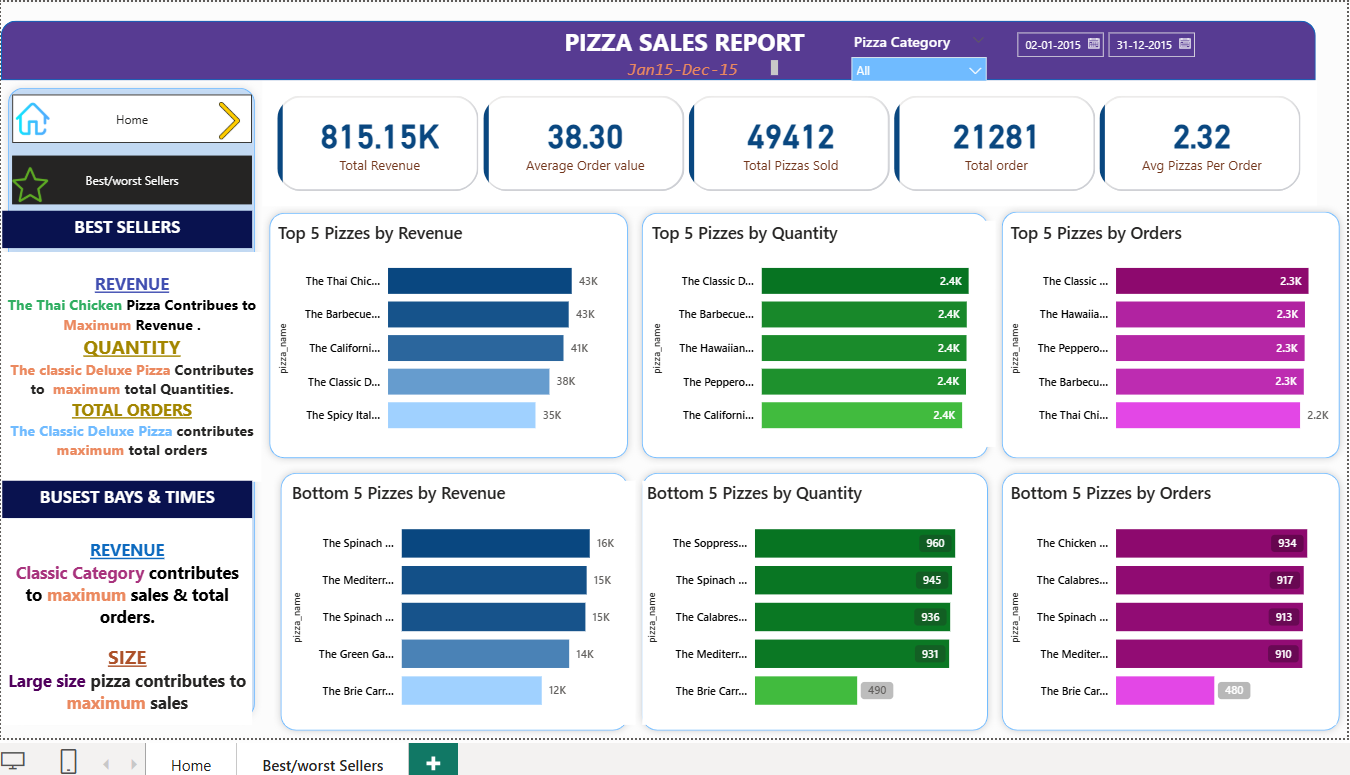

The page's visual inventory and layout, read from the dashboard file:
{"tool":"powerbi","page":{"name":"Best/worst Sellers","canvas":[1500,820],"ordinal":1},"visuals":[{"type":"cardVisual","fields":{"Data":["pizza_sales.Total Revenue","pizza_sales.Average Order value","pizza_sales.Total Pizzas Sold","pizza_sales.Total order","pizza_sales.Avg Pizzas Per Order"]},"box":[290.8,87.7,1175.4,140],"z":0},{"type":"shape","box":[0,21.5,1464.6,66.2],"z":1000},{"type":"textbox","box":[622.3,20.9,320,65.9],"z":2000},{"type":"textbox","box":[691.5,59.5,178.5,27.3],"z":3000},{"type":"shape","box":[290.8,227.7,415.4,289.2],"z":4000},{"type":"shape","box":[0,87.7,290.8,718.5],"z":5000},{"type":"textbox","box":[1.5,232.3,278.5,41.5],"z":6000},{"type":"textbox","box":[1.8,278.2,289.1,256.4],"z":7000},{"type":"textbox","box":[1.5,533.8,278.5,41.5],"z":8000},{"type":"textbox","box":[1.5,575.4,278.5,230.8],"z":9000},{"type":"slicer","fields":{"Values":["pizza_sales.pizza_category"]},"box":[936.9,27.7,170.8,60],"z":10000},{"type":"shape","box":[706.2,227.7,401.5,289.2],"z":11000},{"type":"shape","box":[1107.7,226.2,392.3,290.8],"z":12000},{"type":"shape","box":[1107.7,516.9,392.3,303.1],"z":13000},{"type":"shape","box":[706.2,516.9,401.5,303.1],"z":14000},{"type":"shape","box":[303.1,516.9,403.1,303.1],"z":15000},{"type":"barChart","title":"Top 5 Pizzes by Revenue","fields":{"Category":["pizza_sales.pizza_name"],"Y":["pizza_sales.Total Revenue"]},"box":[303.1,243.1,387.7,252.3],"z":16000},{"type":"barChart","title":"Bottom 5 Pizzes by Revenue","fields":{"Category":["pizza_sales.pizza_name"],"Y":["pizza_sales.Total Revenue"]},"box":[318.5,533.8,387.7,272.3],"z":17000},{"type":"barChart","title":"Top 5 Pizzes by Quantity","fields":{"Category":["pizza_sales.pizza_name"],"Y":["pizza_sales.Total Pizzas Sold"]},"box":[720,243.1,387.7,252.3],"z":18000},{"type":"barChart","title":"Bottom 5 Pizzes by Quantity","fields":{"Category":["pizza_sales.pizza_name"],"Y":["pizza_sales.Total Pizzas Sold"]},"box":[713.8,533.8,380,272.3],"z":19000},{"type":"barChart","title":"Top 5 Pizzes by Orders","fields":{"Category":["pizza_sales.pizza_name"],"Y":["pizza_sales.Total order"]},"box":[1120,243.1,367.7,252.3],"z":20000},{"type":"barChart","title":"Bottom 5 Pizzes by Orders","fields":{"Category":["pizza_sales.pizza_name"],"Y":["pizza_sales.Total order"]},"box":[1120,533.8,367.7,272.3],"z":21000},{"type":"slicer","fields":{"Values":["pizza_sales.order_date"]},"box":[1119.7,23.7,218.6,62.7],"z":22000},{"type":"pageNavigator","box":[12.5,103.1,267.4,54.3],"z":22001},{"type":"pageNavigator","box":[12.5,171.3,267.4,54.3],"z":22002},{"type":"image","box":[12.5,178.3,40.4,50.1],"z":22003},{"type":"image","box":[229.8,111.4,50.1,41.8],"z":22004},{"type":"image","box":[12.5,111.4,46,37.6],"z":22005}]}

Visuals, with their boxes on the page's 1500x820 design canvas (x1, y1, x2, y2). These are canvas units, not pixel positions in the 1350x775 screenshot, which may show the page scaled, cropped or inside an application window:
cardVisual - pizza_sales.Total Revenue x pizza_sales.Average Order value: (291, 88, 1466, 228)
shape: (0, 22, 1465, 88)
textbox: (622, 21, 942, 87)
textbox: (692, 60, 870, 87)
shape: (291, 228, 706, 517)
shape: (0, 88, 291, 806)
textbox: (2, 232, 280, 274)
textbox: (2, 278, 291, 535)
textbox: (2, 534, 280, 575)
textbox: (2, 575, 280, 806)
slicer - pizza_sales.pizza_category: (937, 28, 1108, 88)
shape: (706, 228, 1108, 517)
shape: (1108, 226, 1500, 517)
shape: (1108, 517, 1500, 820)
shape: (706, 517, 1108, 820)
shape: (303, 517, 706, 820)
"Top 5 Pizzes by Revenue" barChart: (303, 243, 691, 495)
"Bottom 5 Pizzes by Revenue" barChart: (318, 534, 706, 806)
"Top 5 Pizzes by Quantity" barChart: (720, 243, 1108, 495)
"Bottom 5 Pizzes by Quantity" barChart: (714, 534, 1094, 806)
"Top 5 Pizzes by Orders" barChart: (1120, 243, 1488, 495)
"Bottom 5 Pizzes by Orders" barChart: (1120, 534, 1488, 806)
slicer - pizza_sales.order_date: (1120, 24, 1338, 86)
pageNavigator: (12, 103, 280, 157)
pageNavigator: (12, 171, 280, 226)
image: (12, 178, 53, 228)
image: (230, 111, 280, 153)
image: (12, 111, 58, 149)
